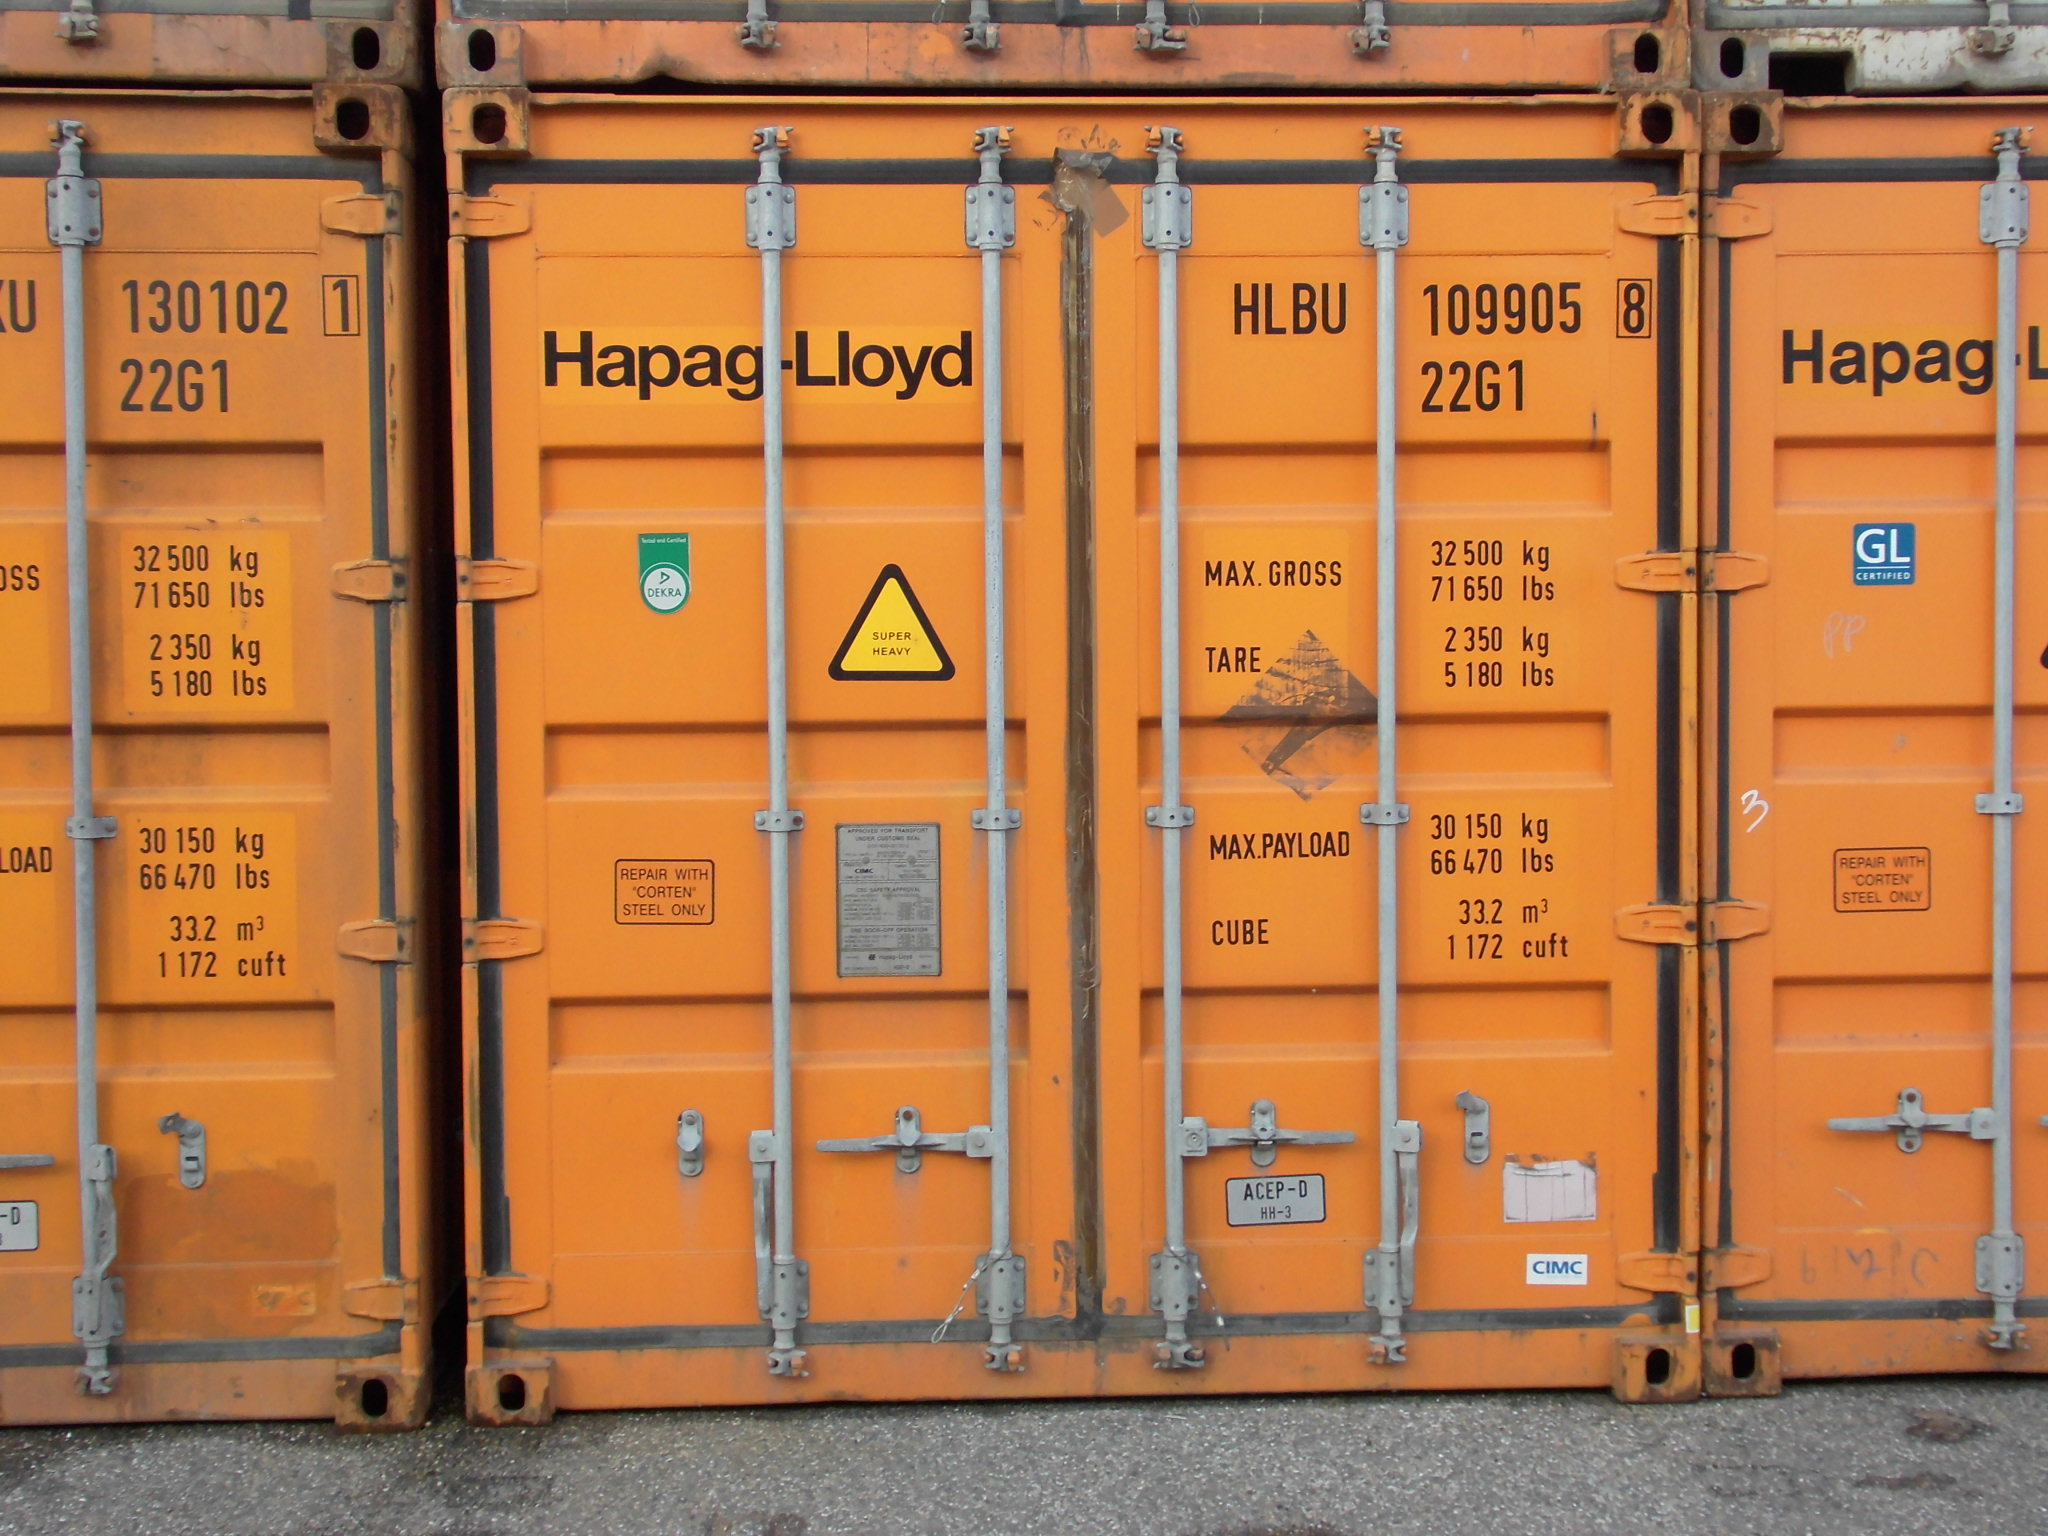container_door: (442, 94, 1716, 1434)
